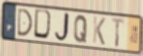D: (33, 8, 54, 42), (17, 8, 34, 37)
J: (53, 11, 71, 44)
K: (92, 15, 107, 47)
Q: (73, 14, 88, 44)
T: (111, 17, 126, 49)
